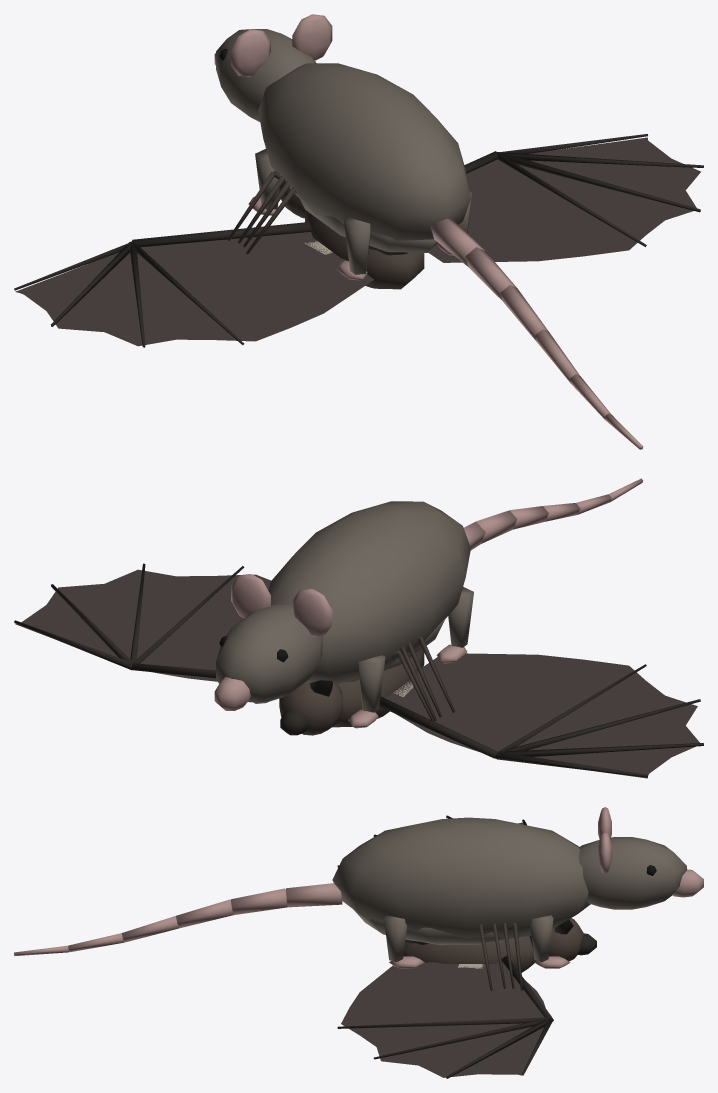
Rendered from cave_fauna.glb.
3 views of the same model, one above another, from view 1: azimuth 30°, elevation 25°; view 2: azimuth 150°, elevation 25°; view 3: azimuth 270°, elevation 25° (orthographic). The views are drawn at different scales.
Visible parts, largest first — view 1: Fauna_Bat, Fauna_Rat, Fauna_Spider; view 2: Fauna_Bat, Fauna_Rat, Fauna_Spider; view 3: Fauna_Rat, Fauna_Bat, Fauna_Spider.
Part boxes in pixels (bbox=[...]): Fauna_Bat: bbox=[14, 134, 703, 347]; Fauna_Rat: bbox=[214, 14, 643, 449]; Fauna_Spider: bbox=[227, 171, 408, 255]; Fauna_Bat: bbox=[14, 563, 703, 778]; Fauna_Rat: bbox=[214, 478, 643, 728]; Fauna_Spider: bbox=[391, 636, 455, 721]; Fauna_Rat: bbox=[14, 807, 703, 968]; Fauna_Bat: bbox=[337, 815, 596, 1078]; Fauna_Spider: bbox=[405, 922, 523, 990].
Size of the model in its own units: 0.3407 by 0.097 by 0.3795.
